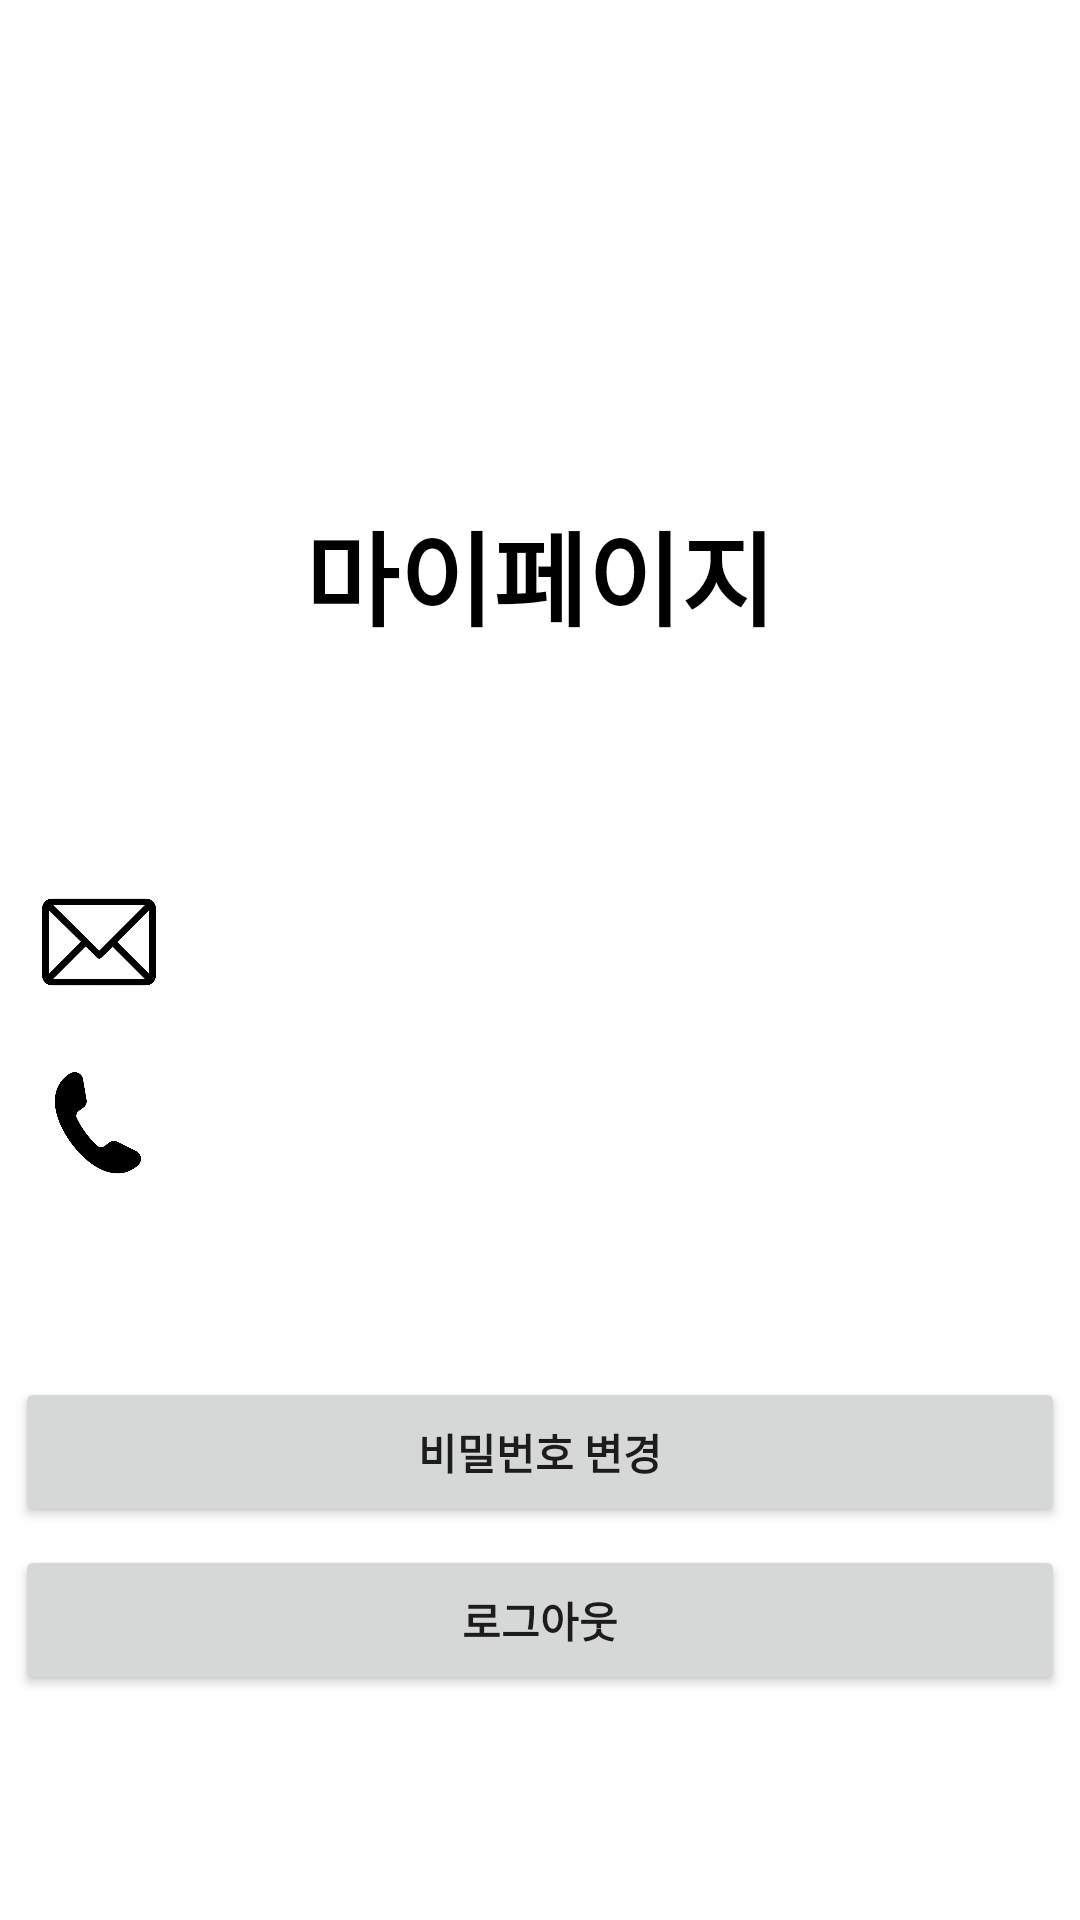

Named icons in this screenshot (1080px x 1920px) and their centers, point (x, y):
email: point (99, 942)
phone: point (98, 1123)
